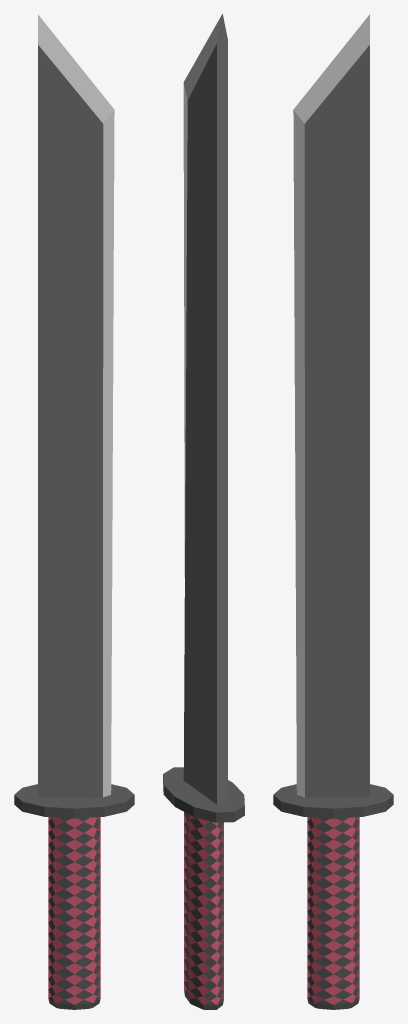
File: katana.fbx
The picture shows the model from 3 angles, left to right: view 1: azimuth 90°, elevation 25°; view 2: azimuth 210°, elevation 25°; view 3: azimuth 270°, elevation 25°; orthographic projection.
Visible parts, largest first — view 1: KATANA; view 2: KATANA; view 3: KATANA.
Part boxes in pixels (x1,y1,x2,y2): KATANA: (14,14,134,1009); KATANA: (163,14,244,1009); KATANA: (273,14,393,1009).
Size of the model in its own units: 35.73 by 590 by 64.91.
